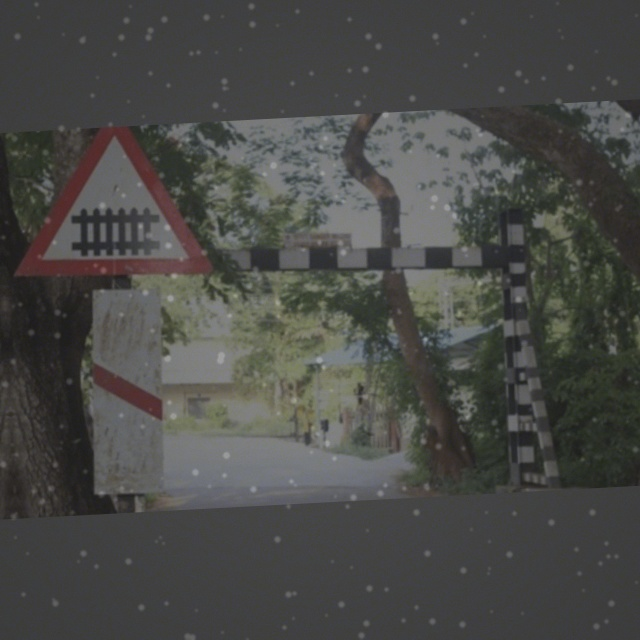Guarded_Level_Crossing: (22, 130, 211, 285)
